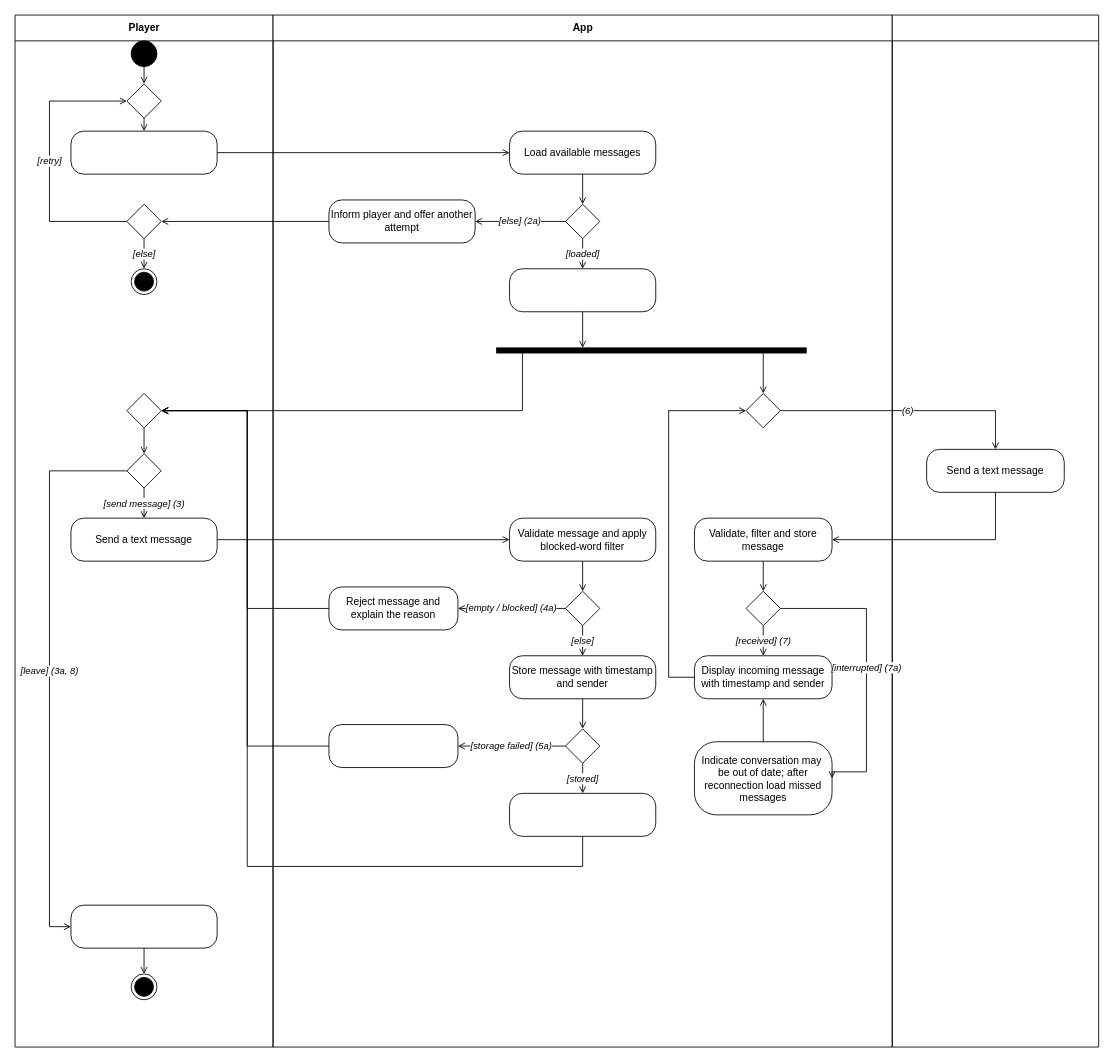
The diagram is 1114 pixels wide and 1062 high, and some of its shapes have lost their labels. Here are the shapes that lost their labels. From the top down, the box of each, then its label:
(70, 130, 217, 174): Open the chat
(509, 268, 656, 312): Display messages with timestamp and sender
(891, 14, 1099, 1047): Other Player
(328, 724, 458, 768): Report failed sending, keep message text
(509, 792, 656, 836): Confirm sending and distribute message
(70, 904, 217, 948): Leave the chat
